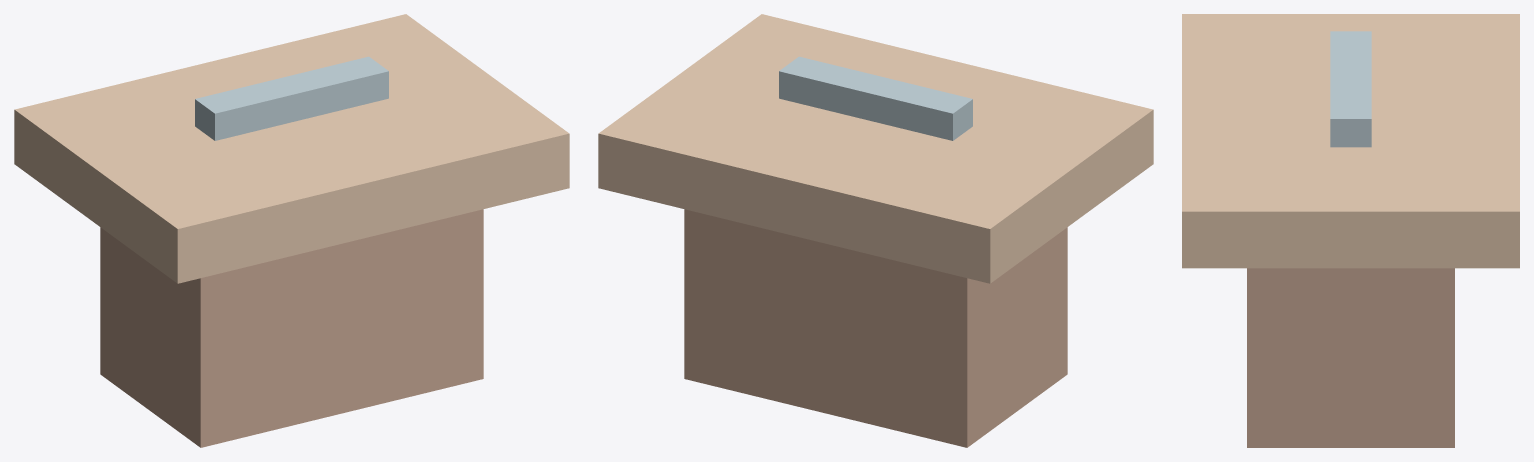
File: workbench.glb
3 views of the same model, side by side, from view 1: azimuth 30°, elevation 25°; view 2: azimuth 150°, elevation 25°; view 3: azimuth 270°, elevation 25° (orthographic). The views are drawn at different scales.
Visible parts, largest first — view 1: table, base, tool; view 2: table, base, tool; view 3: table, base, tool.
Boxes of the visible parts, x1,y1,x2,y2 form: table: (14, 14, 569, 283); base: (100, 209, 483, 447); tool: (195, 56, 388, 140); table: (598, 14, 1153, 283); base: (684, 209, 1067, 447); tool: (779, 56, 972, 140); table: (1182, 14, 1519, 268); base: (1247, 268, 1454, 447); tool: (1330, 31, 1371, 147).
Size of the model in its own units: 0.9 by 0.64 by 0.65.
